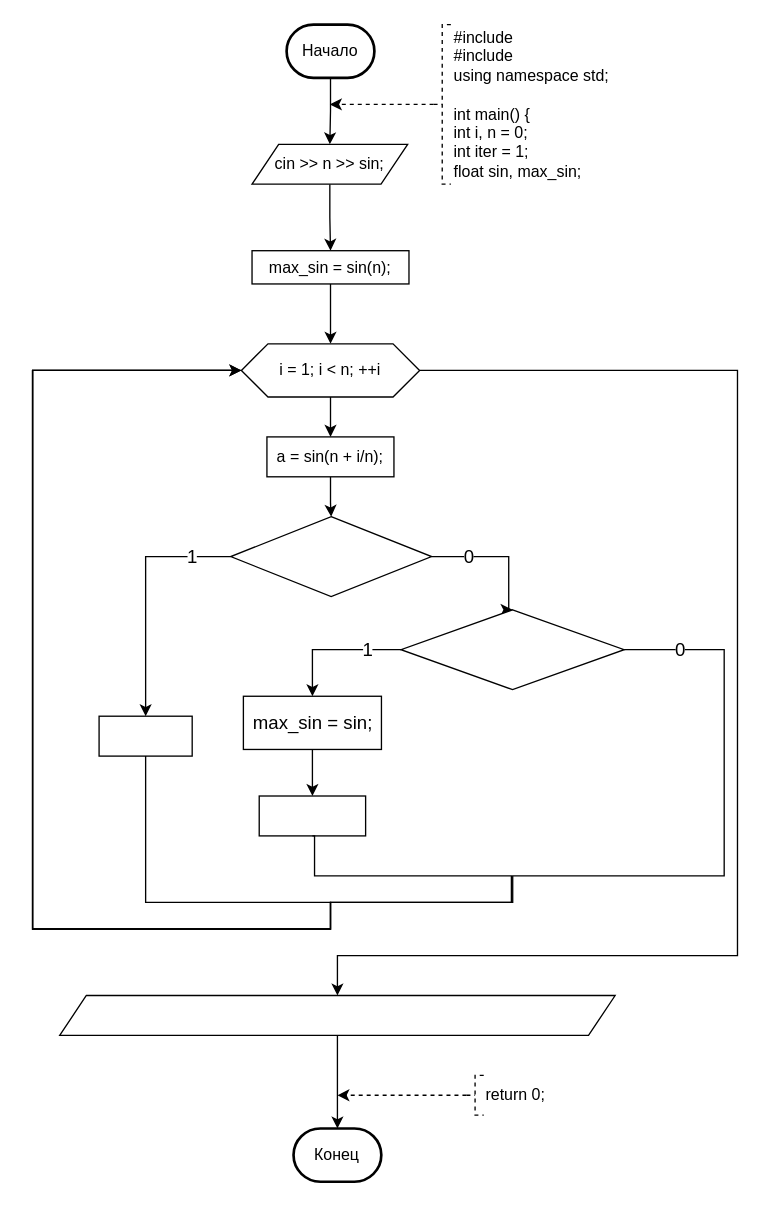
Image size: 771x1205. Some labels were removed from this diagram. Here are the shapes that lost their labels. From the top down, the box of each, then its label:
(229, 515, 432, 597): sin == max_sin
(400, 608, 624, 690): sin > max_sin
(98, 715, 192, 756): ++iter;
(258, 795, 366, 836): n_max = i;
(58, 994, 615, 1035): cout << "The count of max value " << max_sin << " is " << iter << endl;
